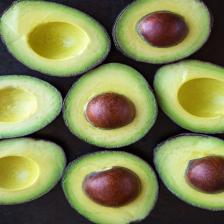brown: (82, 167, 141, 207), (85, 92, 135, 129), (137, 11, 188, 47), (185, 156, 224, 194)
